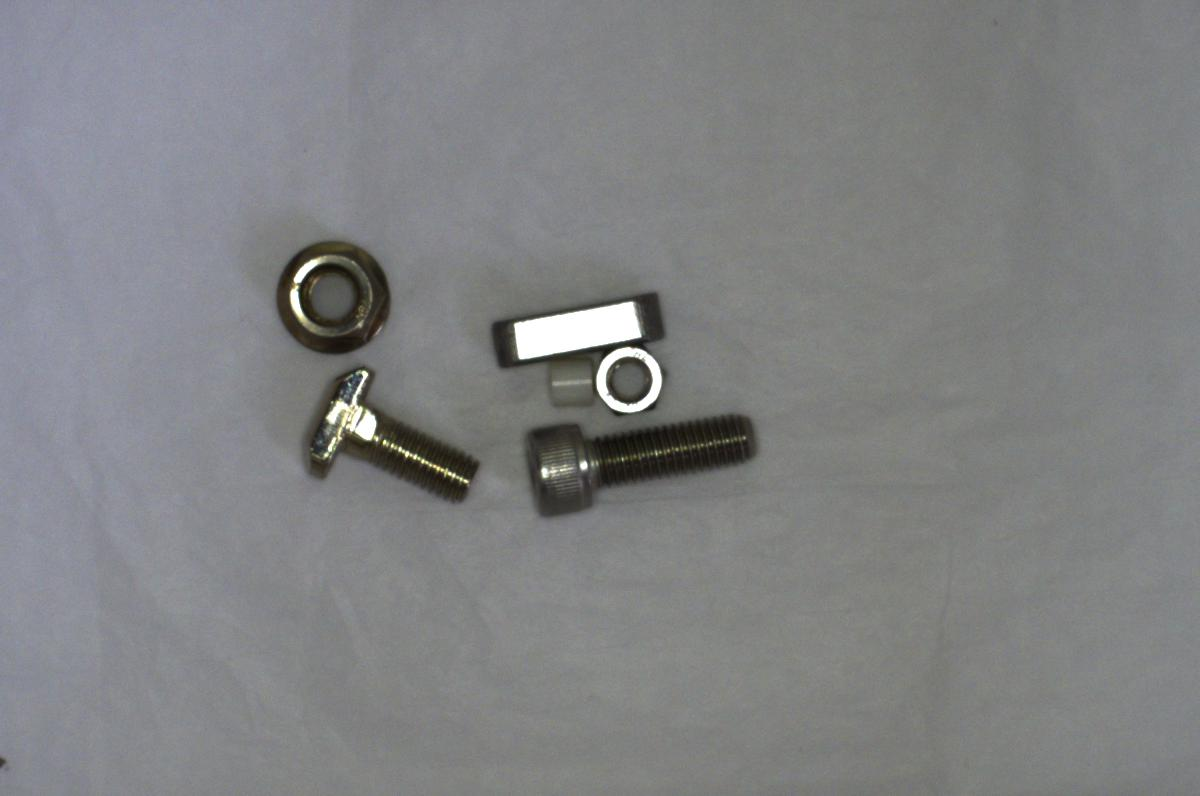Flange nut: (271, 233, 391, 355)
Hexagon nut: (585, 339, 675, 420)
Hexagon screw: (507, 414, 781, 520)
Keybar: (488, 283, 672, 366)
Plastic cushion pillar: (538, 355, 593, 415)
T-shaped screw: (297, 366, 487, 502)
